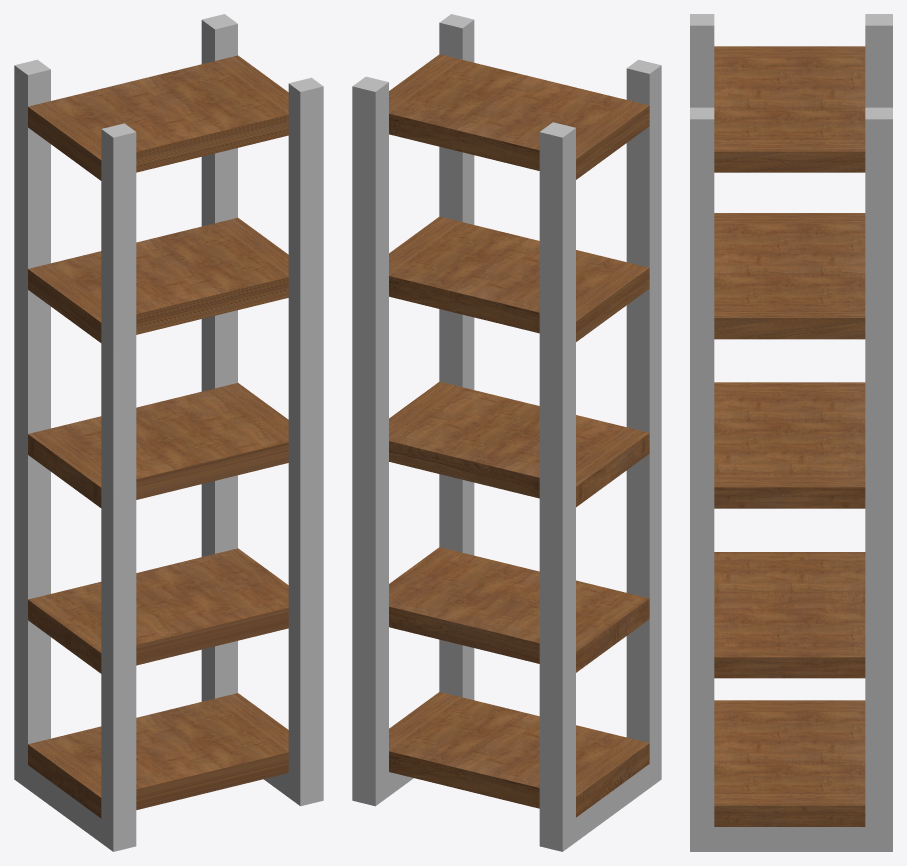
The model's file is Estante_5_MaC_MeE_P.fbx.
The picture shows the model from 3 angles, left to right: view 1: azimuth 30°, elevation 25°; view 2: azimuth 150°, elevation 25°; view 3: azimuth 270°, elevation 25°; orthographic projection. The views are drawn at different scales.
Visible parts, largest first — view 1: polySurface33; view 2: polySurface33; view 3: polySurface33.
Boxes of the visible parts, x1,y1,x2,y2 form: polySurface33: (14, 14, 323, 851); polySurface33: (352, 14, 661, 851); polySurface33: (690, 14, 892, 851).
Size of the model in its own units: 1 by 3.25 by 0.8151.
